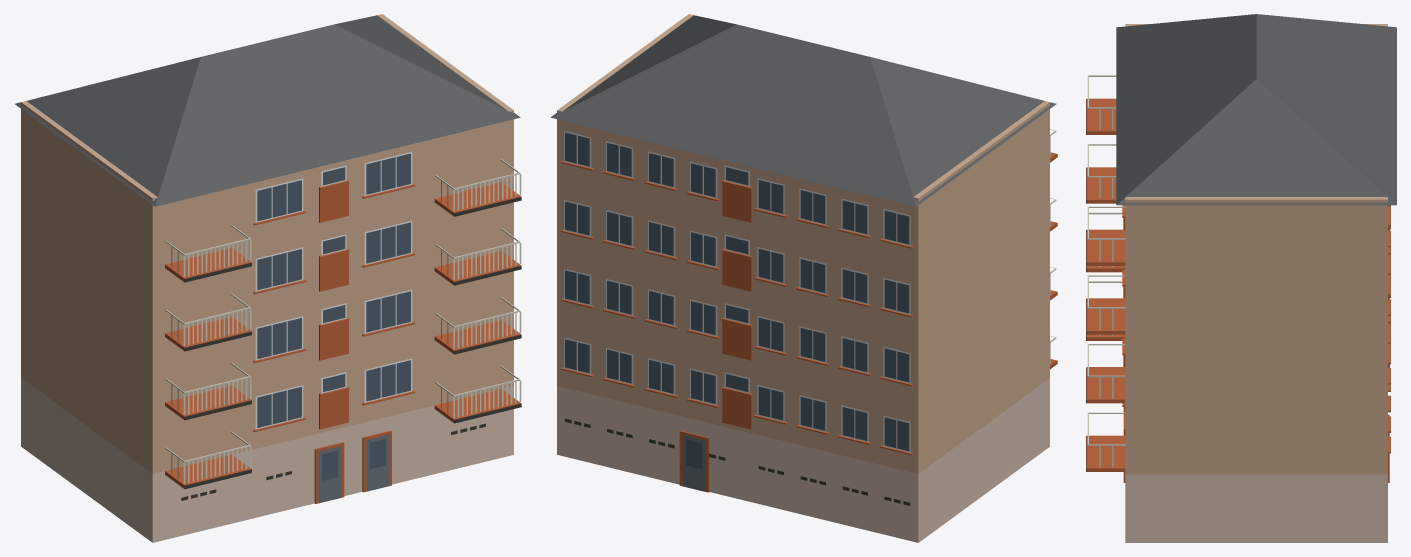
The model's file is nw-peach-render-balcony-front__peach-orange__5__hip__long__solid.glb.
The picture shows the model from 3 angles, left to right: view 1: azimuth 30°, elevation 25°; view 2: azimuth 150°, elevation 25°; view 3: azimuth 270°, elevation 25°; orthographic projection.
Visible parts, largest first — view 1: nw-peach-render-balcony-front__peach-orange__5__hip__long__s; view 2: nw-peach-render-balcony-front__peach-orange__5__hip__long__s; view 3: nw-peach-render-balcony-front__peach-orange__5__hip__long__s.
Boxes of the visible parts, <box> form: nw-peach-render-balcony-front__peach-orange__5__hip__long__s: <box>15,14,521,542</box>; nw-peach-render-balcony-front__peach-orange__5__hip__long__s: <box>551,14,1057,542</box>; nw-peach-render-balcony-front__peach-orange__5__hip__long__s: <box>1086,14,1396,542</box>.
Size of the model in its own units: 16.33 by 17.49 by 12.06.
